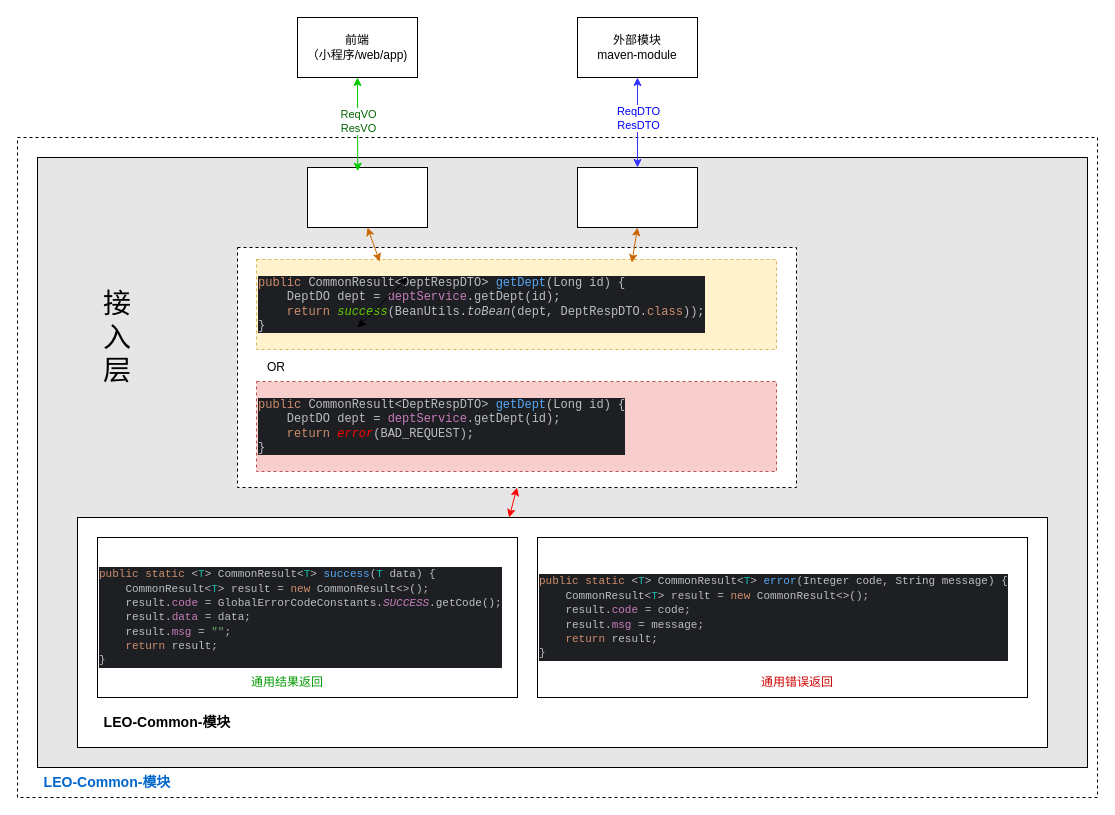
Image size: 1115x815. Some labels were removed from this diagram. Each missing label, with the centre of its shape:
API: (637,197)
Controller: (367,197)
